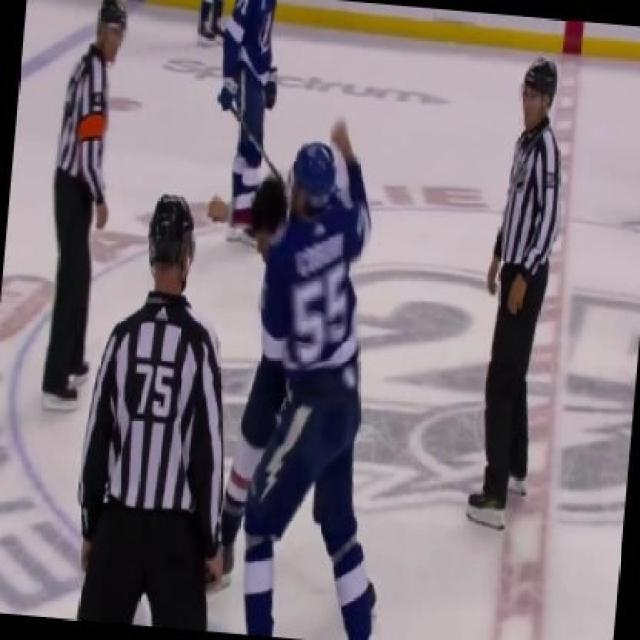fight: (211, 112, 375, 640)
non-fight: (81, 189, 212, 640), (470, 54, 561, 520), (40, 0, 125, 401), (218, 0, 282, 234)
